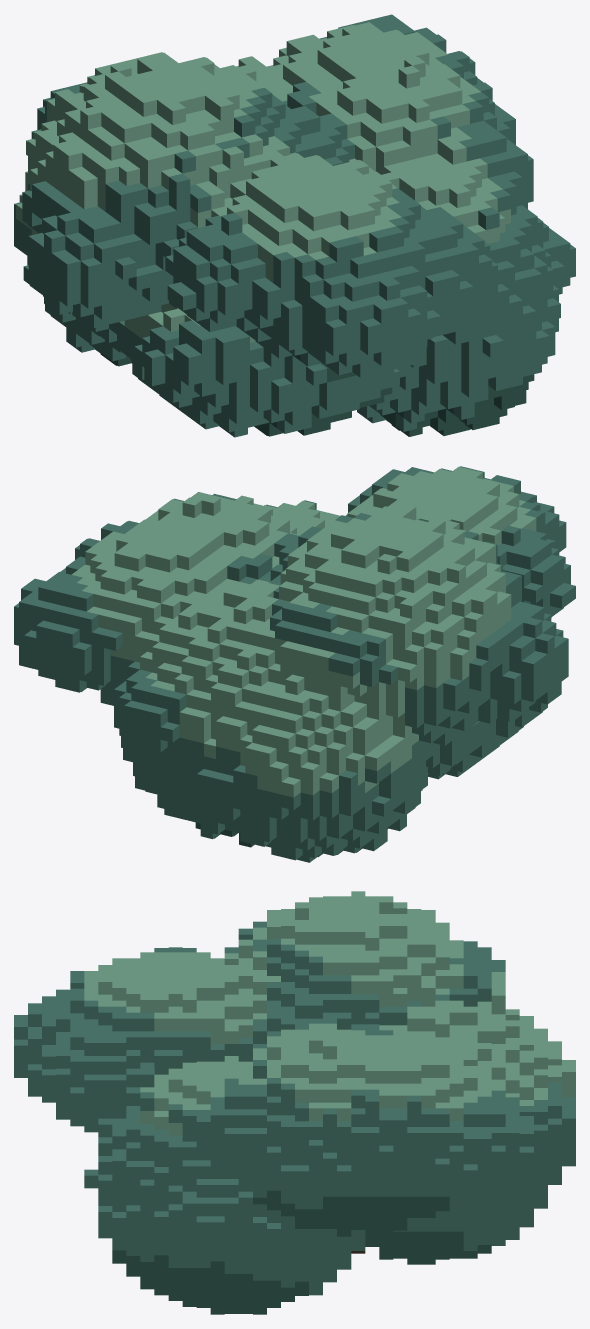
The model's file is dense_bush_v2_near.glb.
3 renders of one model, top to bottom at view 1: azimuth 30°, elevation 25°; view 2: azimuth 150°, elevation 25°; view 3: azimuth 270°, elevation 25°, orthographic. The views are drawn at different scales.
Visible parts, largest first — view 1: dense_bush_v2_near; view 2: dense_bush_v2_near; view 3: dense_bush_v2_near.
Boxes of the visible parts, x1,y1,x2,y2 form: dense_bush_v2_near: [14, 14, 575, 437]; dense_bush_v2_near: [14, 466, 575, 862]; dense_bush_v2_near: [14, 891, 575, 1314].
Size of the model in its own units: 2.31 by 1.5 by 2.5.
Materials: 1 (1 with a texture image).
